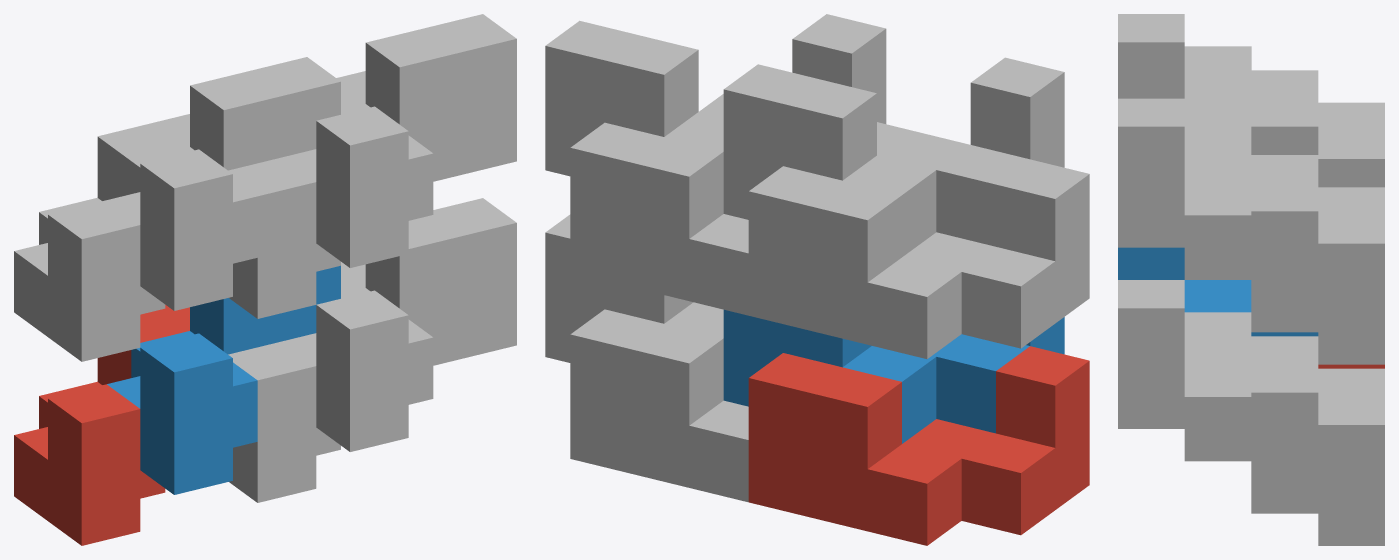
Rendered from tiling.obj.
3 views of the same model, side by side, from view 1: azimuth 30°, elevation 25°; view 2: azimuth 150°, elevation 25°; view 3: azimuth 270°, elevation 25° (orthographic). The views are drawn at different scales.
Visible parts, largest first — view 1: copy_1_domain_8, copy_1_domain_6, copy_1_domain_4, copy_1_domain_2, copy_1_domain_3, copy_1_domain_1, copy_1_domain_7, copy_1_domain_5; view 2: copy_1_domain_3, copy_1_domain_1, copy_1_domain_4, copy_1_domain_7, copy_1_domain_5, copy_1_domain_8, copy_1_domain_2, copy_1_domain_6; view 3: copy_1_domain_6, copy_1_domain_8, copy_1_domain_4, copy_1_domain_5, copy_1_domain_7, copy_1_domain_3, copy_1_domain_2, copy_1_domain_1.
Part boxes in pixels (left/top/right/bottom): copy_1_domain_8: left=283, top=14, right=516, bottom=267; copy_1_domain_6: left=283, top=198, right=516, bottom=451; copy_1_domain_4: left=107, top=57, right=340, bottom=310; copy_1_domain_2: left=107, top=265, right=340, bottom=494; copy_1_domain_3: left=14, top=114, right=189, bottom=361; copy_1_domain_1: left=14, top=305, right=189, bottom=545; copy_1_domain_7: left=228, top=71, right=365, bottom=318; copy_1_domain_5: left=228, top=262, right=365, bottom=502; copy_1_domain_3: left=748, top=159, right=1089, bottom=358; copy_1_domain_1: left=748, top=346, right=1089, bottom=545; copy_1_domain_4: left=723, top=57, right=1064, bottom=256; copy_1_domain_7: left=570, top=122, right=910, bottom=315; copy_1_domain_5: left=570, top=309, right=748, bottom=502; copy_1_domain_8: left=545, top=14, right=886, bottom=176; copy_1_domain_2: left=723, top=309, right=1064, bottom=443; copy_1_domain_6: left=545, top=214, right=723, bottom=362; copy_1_domain_6: left=1118, top=280, right=1318, bottom=513; copy_1_domain_8: left=1118, top=98, right=1318, bottom=332; copy_1_domain_4: left=1118, top=14, right=1318, bottom=154; copy_1_domain_5: left=1184, top=312, right=1384, bottom=545; copy_1_domain_7: left=1184, top=131, right=1384, bottom=364; copy_1_domain_3: left=1184, top=46, right=1384, bottom=187; copy_1_domain_2: left=1118, top=247, right=1318, bottom=336; copy_1_domain_1: left=1318, top=364, right=1384, bottom=368.
Bounding box in the file's own units: 8 × 6 × 4.
